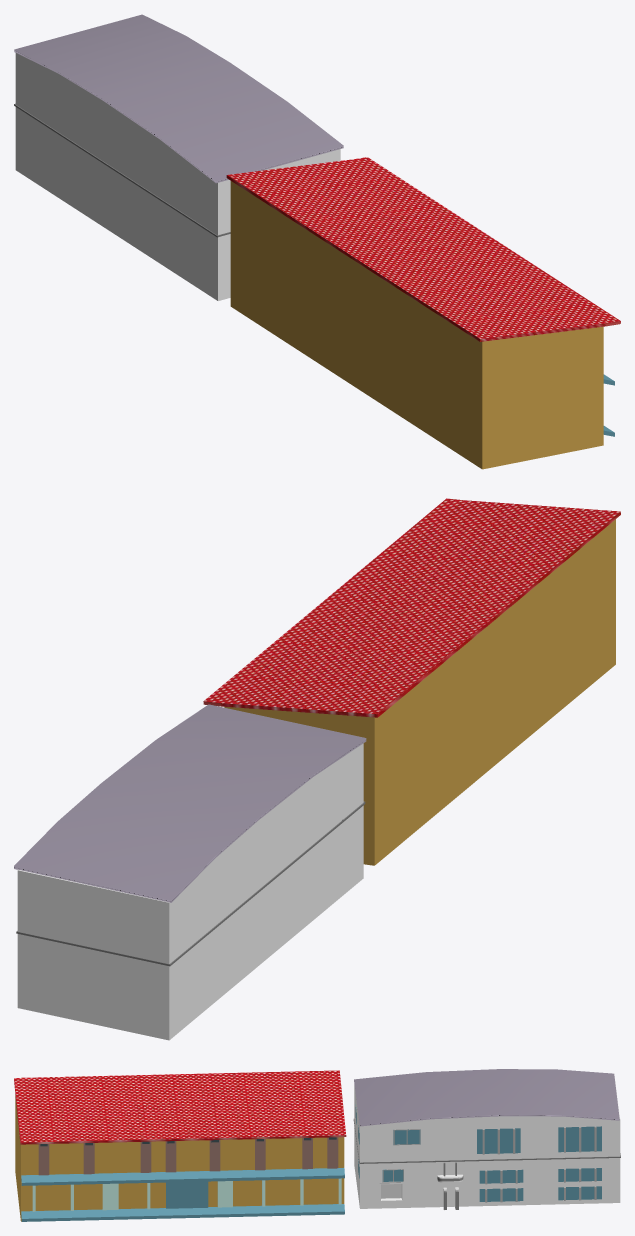
3 views of the same model, one above another, from view 1: azimuth 30°, elevation 25°; view 2: azimuth 150°, elevation 25°; view 3: azimuth 270°, elevation 25° (orthographic). The views are drawn at different scales.
Parts seen in each view (by area): view 1: polySurface675, polySurface707; view 2: polySurface707, polySurface675; view 3: polySurface675, polySurface707.
Boxes of the visible parts, x1,y1,x2,y2 form: polySurface675: (226, 157, 620, 469); polySurface707: (14, 14, 343, 300); polySurface707: (14, 704, 366, 1040); polySurface675: (203, 498, 620, 865); polySurface675: (14, 1070, 346, 1221); polySurface707: (353, 1069, 620, 1209).
Bounding box in the file's own units: 1.73 × 1.27 × 7.
Materials: 12 (1 with a texture image).
